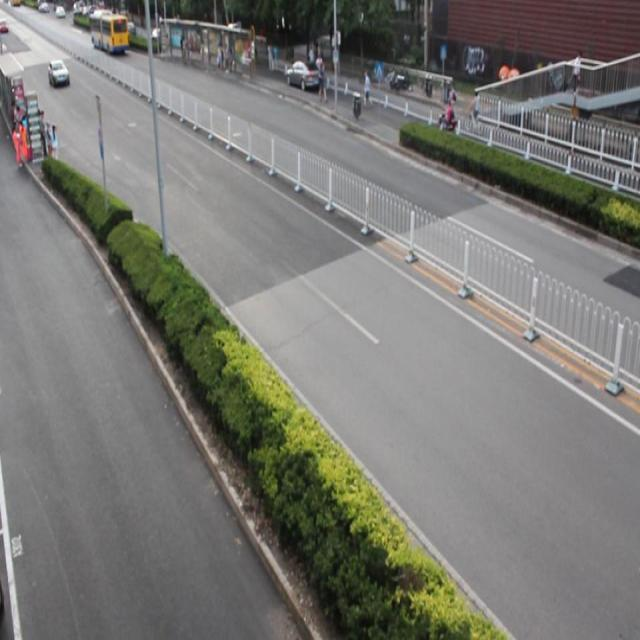car: (286, 59, 323, 92)
